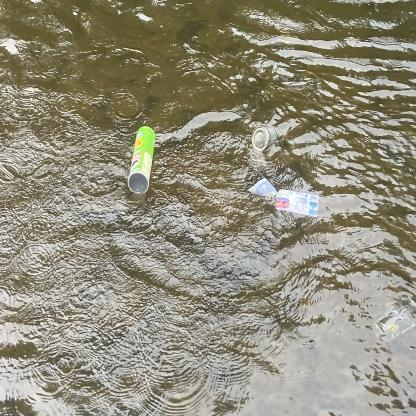trash: (244, 174, 324, 224), (121, 121, 160, 200), (372, 292, 416, 350), (244, 120, 282, 158)
